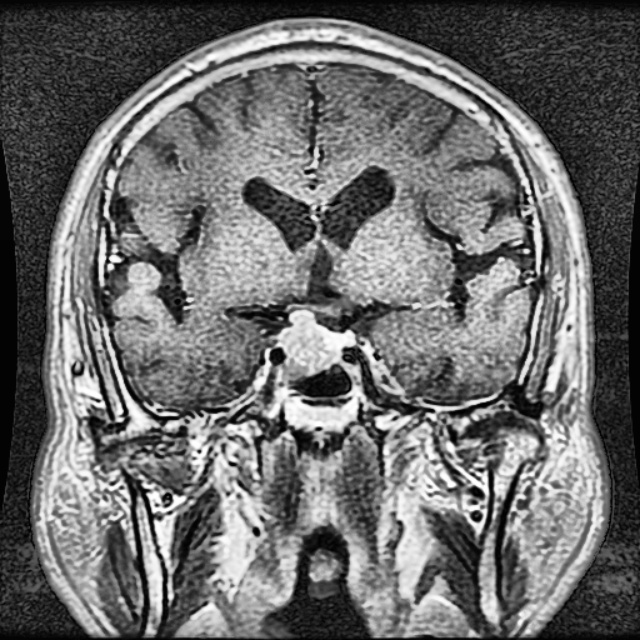Pituitary: (275, 310, 355, 380)
